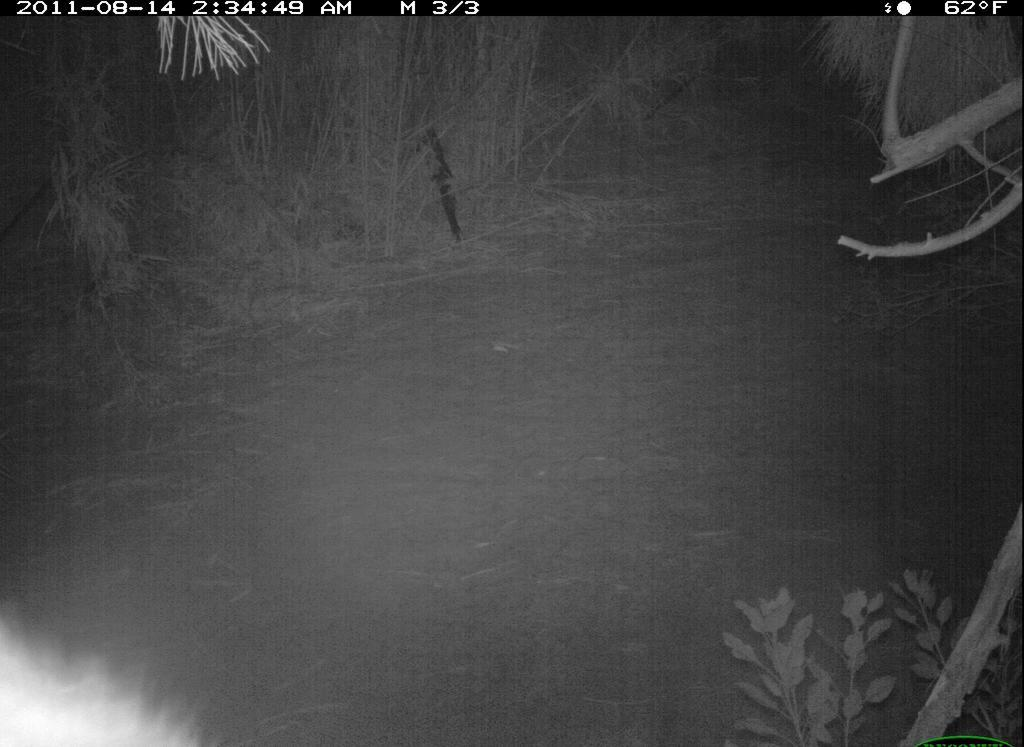raccoon: (2, 588, 222, 743)
